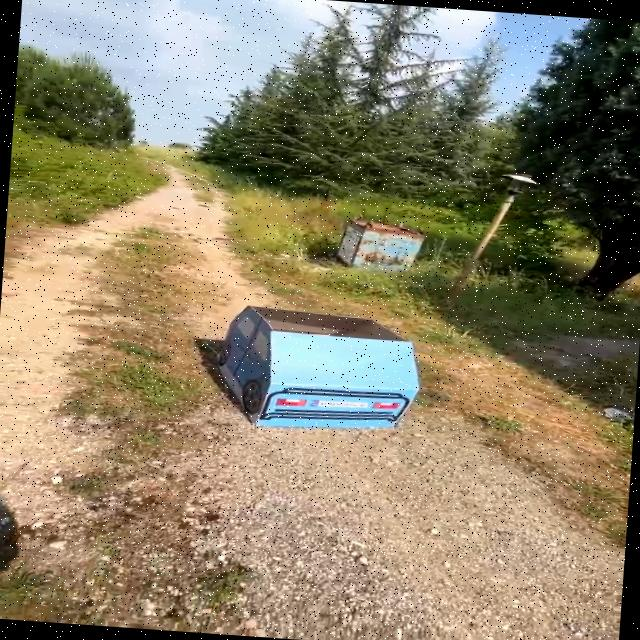blue_car: (170, 285, 448, 447)
